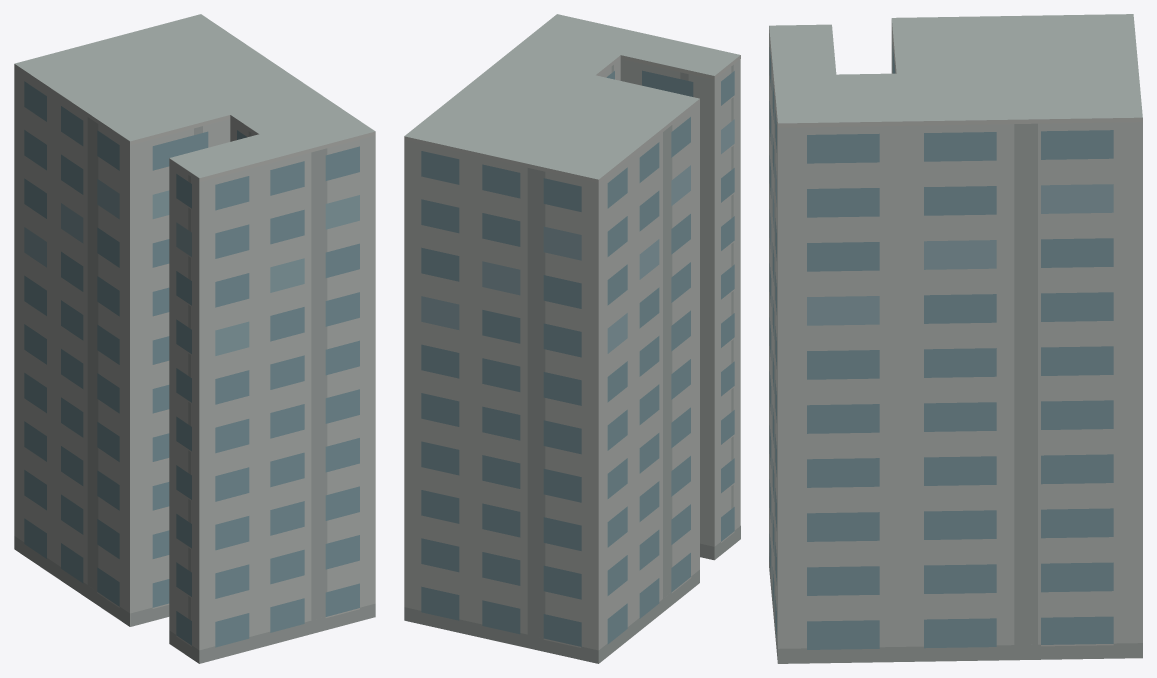
Rendered from residential-1b75d28a-7eba-4e7a-8db2-17d078b2a471.glb.
3 views of the same model, side by side, from view 1: azimuth 30°, elevation 25°; view 2: azimuth 150°, elevation 25°; view 3: azimuth 270°, elevation 25° (orthographic). The views are drawn at different scales.
Parts seen in each view (by area): view 1: residential-1b75d28a-7eba-4e7a-8db2-17d078b2a471.tmp; view 2: residential-1b75d28a-7eba-4e7a-8db2-17d078b2a471.tmp; view 3: residential-1b75d28a-7eba-4e7a-8db2-17d078b2a471.tmp.
Boxes of the visible parts, x1=… form: residential-1b75d28a-7eba-4e7a-8db2-17d078b2a471.tmp: x1=14, y1=14, x2=375, y2=663; residential-1b75d28a-7eba-4e7a-8db2-17d078b2a471.tmp: x1=404, y1=14, x2=740, y2=663; residential-1b75d28a-7eba-4e7a-8db2-17d078b2a471.tmp: x1=769, y1=14, x2=1142, y2=663.
Size of the model in its own units: 13.04 by 30 by 18.81.
